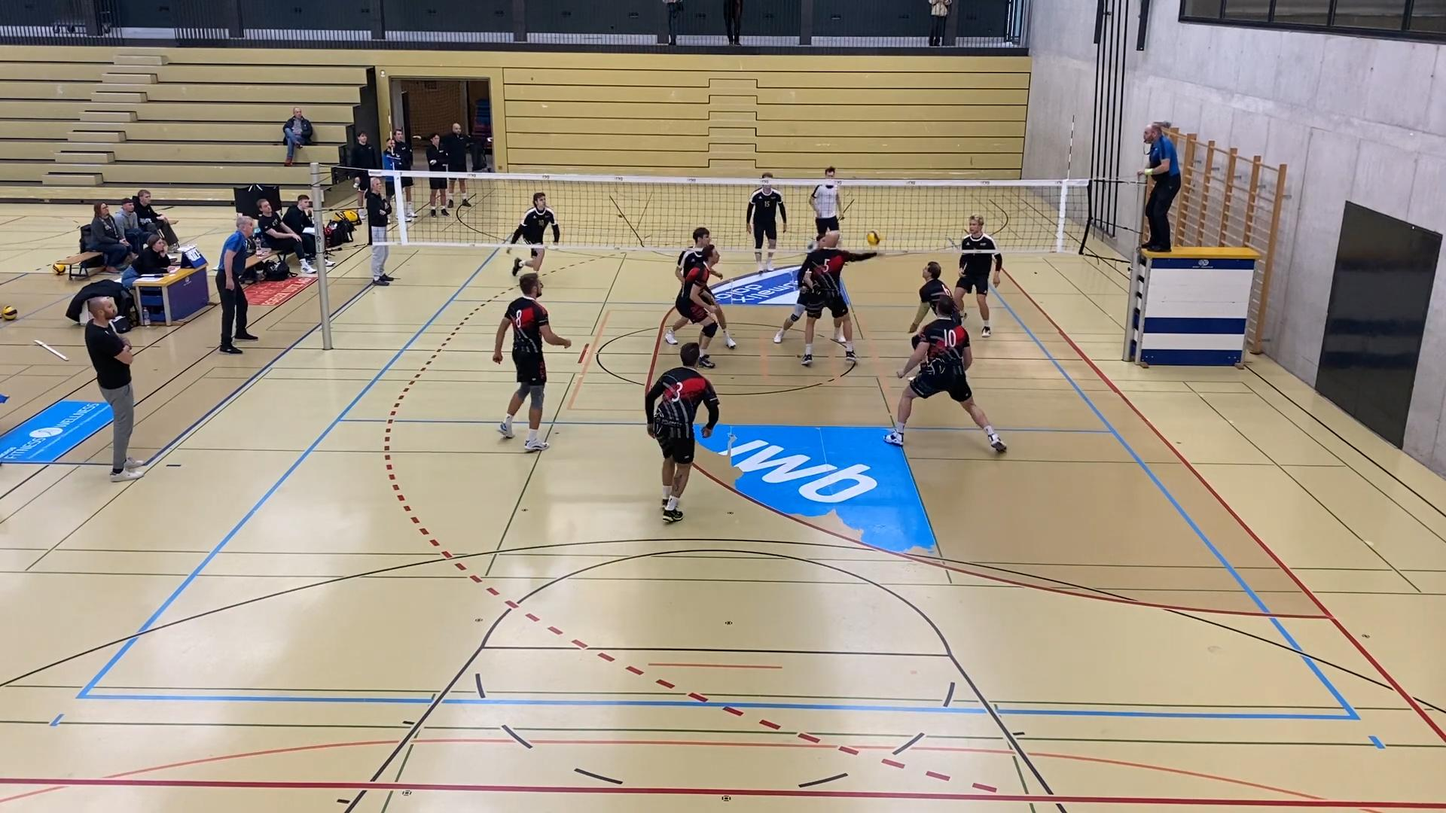Dig: (786, 226, 882, 365)
Player: (884, 297, 1005, 452), (493, 273, 571, 451), (645, 343, 718, 522), (675, 227, 736, 349), (953, 214, 1002, 336), (675, 245, 718, 367), (509, 192, 560, 276), (746, 172, 786, 271), (908, 262, 950, 333), (809, 166, 839, 249)
ball: (864, 226, 882, 248)
